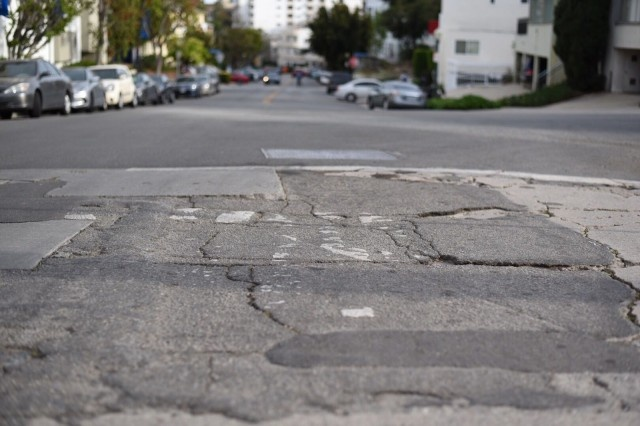pothole: (361, 196, 593, 289)
